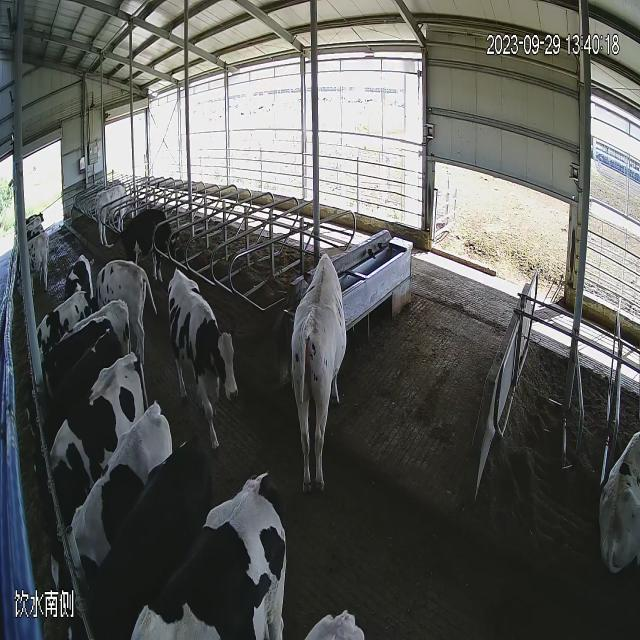drinking: (288, 236, 353, 504)
lying down: (595, 417, 640, 600)
standing: (164, 259, 252, 455), (92, 173, 135, 251)
